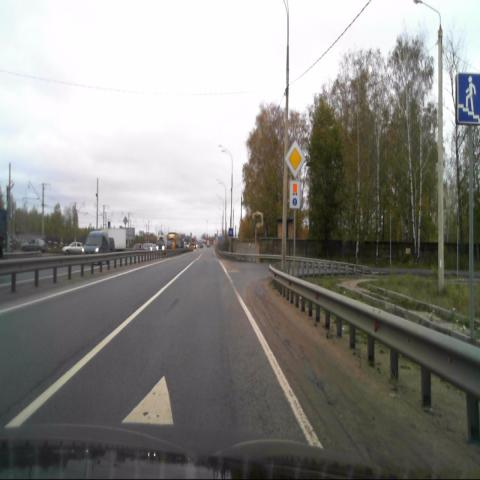6_7: (456, 71, 479, 125)
